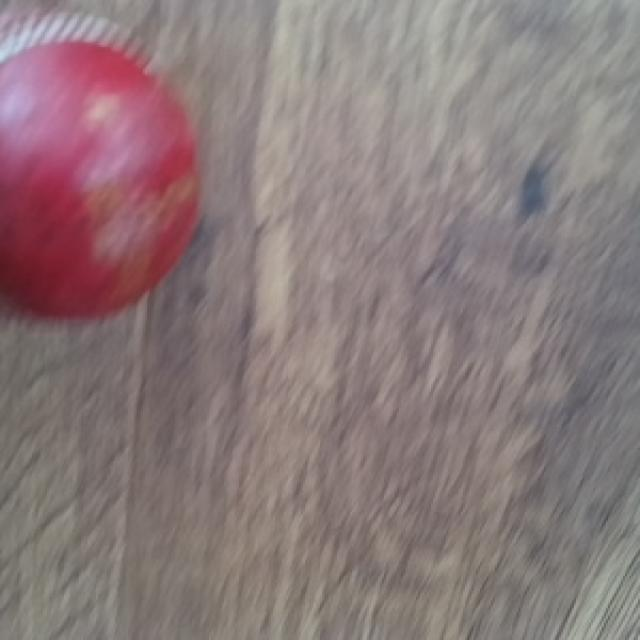ball: (0, 30, 203, 322)
